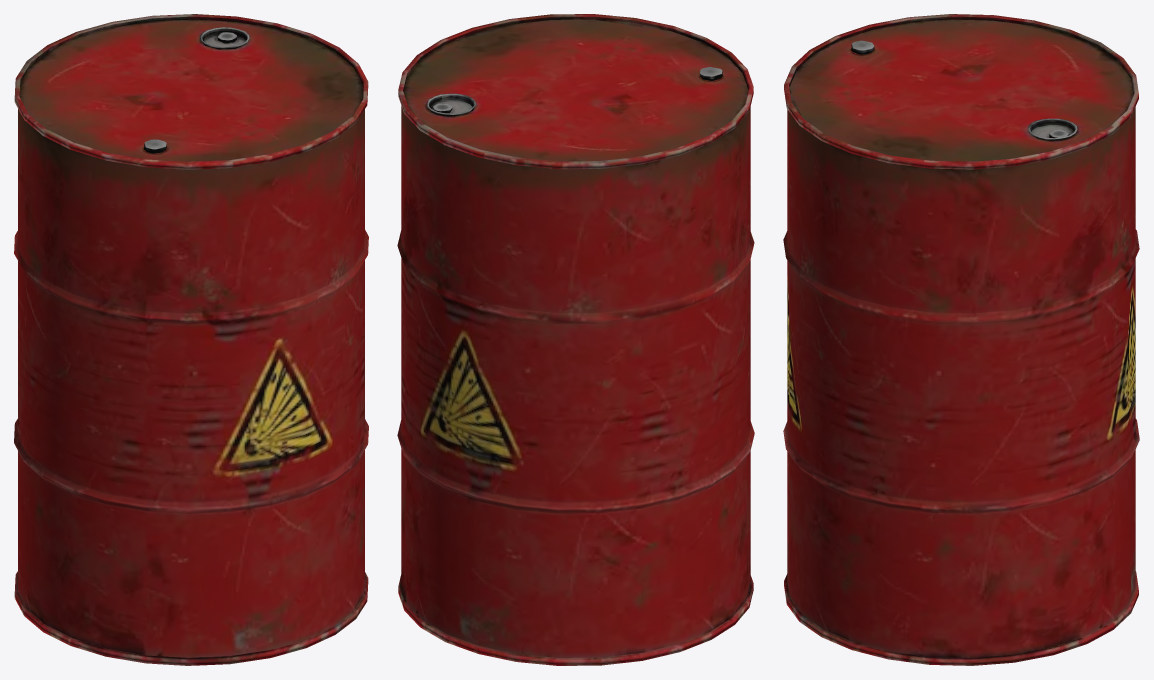
The model's file is ph_Barrel_01.glb.
3 renders of one model, left to right at view 1: azimuth 30°, elevation 25°; view 2: azimuth 150°, elevation 25°; view 3: azimuth 270°, elevation 25°, orthographic.
Parts seen in each view (by area): view 1: Barrel_01; view 2: Barrel_01; view 3: Barrel_01.
Part boxes in pixels (x1=…): Barrel_01: x1=14, y1=14, x2=368, y2=665; Barrel_01: x1=397, y1=14, x2=754, y2=665; Barrel_01: x1=783, y1=14, x2=1139, y2=665.
Size of the model in its own units: 0.5628 by 0.8789 by 0.5628.
Materials: 1 (1 with a texture image).
